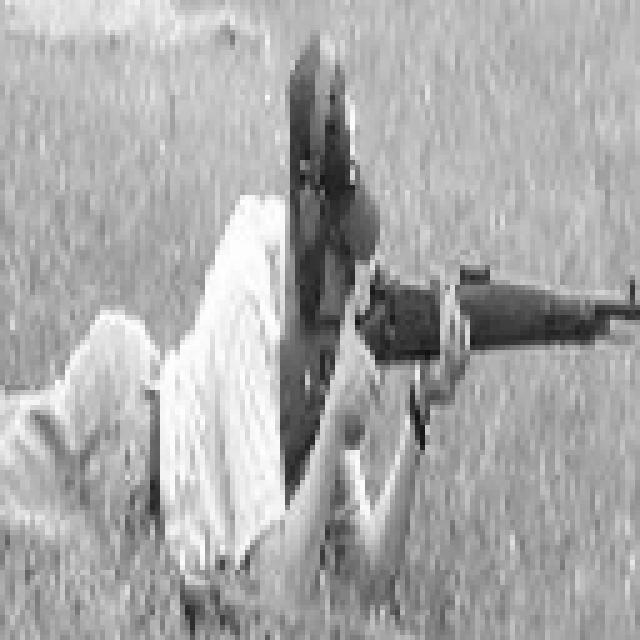Rifle: (325, 255, 640, 435)
